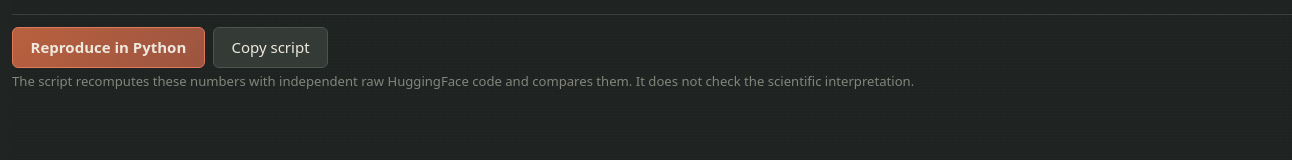
ReproduceButton › downloads the script through the API and announces the filename
Click the button "Reproduce in Python".
click(108, 47)  # box x1=12 y1=27 x2=205 y2=68
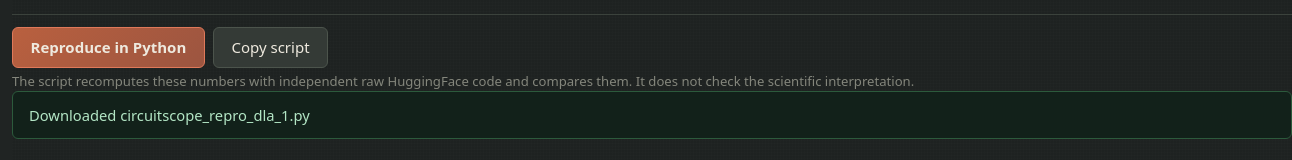
Check: the message shows "circuitscope_repro_dla_1.py", box x1=29 y1=104 x2=310 y2=124
